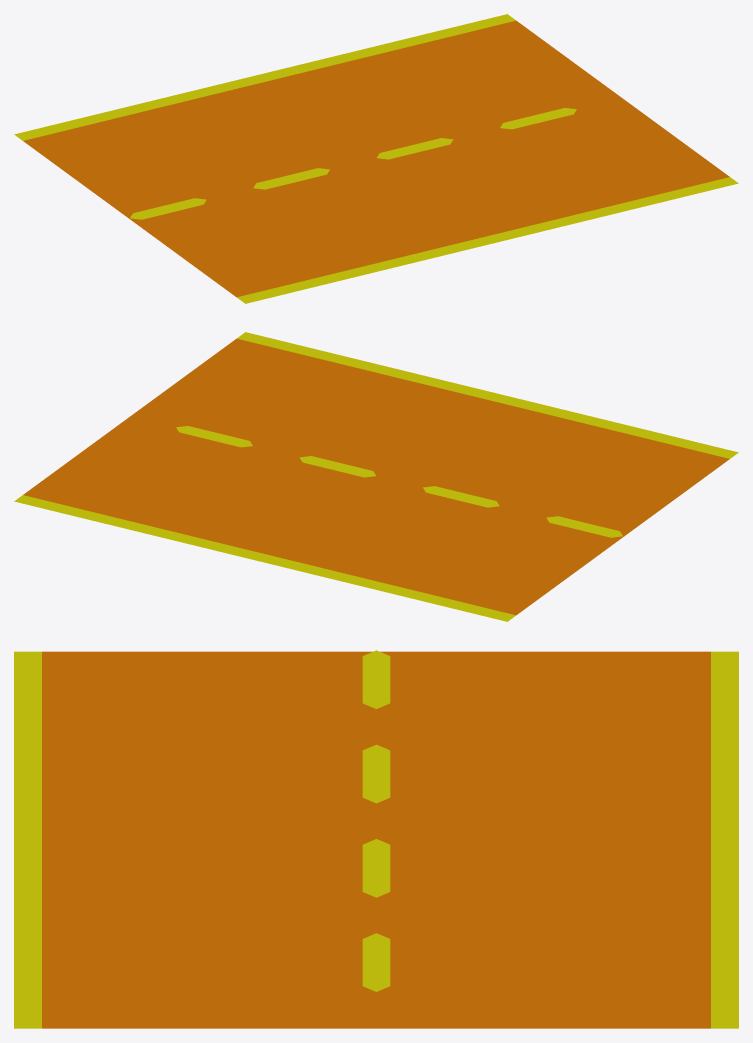
The model's file is Mesh_road.fbx.
3 renders of one model, top to bottom at view 1: azimuth 30°, elevation 25°; view 2: azimuth 150°, elevation 25°; view 3: azimuth 270°, elevation 25°, orthographic. The views are drawn at different scales.
Visible parts, largest first — view 1: Mesh_road; view 2: Mesh_road; view 3: Mesh_road.
Boxes of the visible parts, x1,y1,x2,y2 form: Mesh_road: (14,14,738,303); Mesh_road: (14,332,738,621); Mesh_road: (14,650,738,1028).
Size of what is drawn, in the model's own units: 1600 by 2.5 by 1300.
